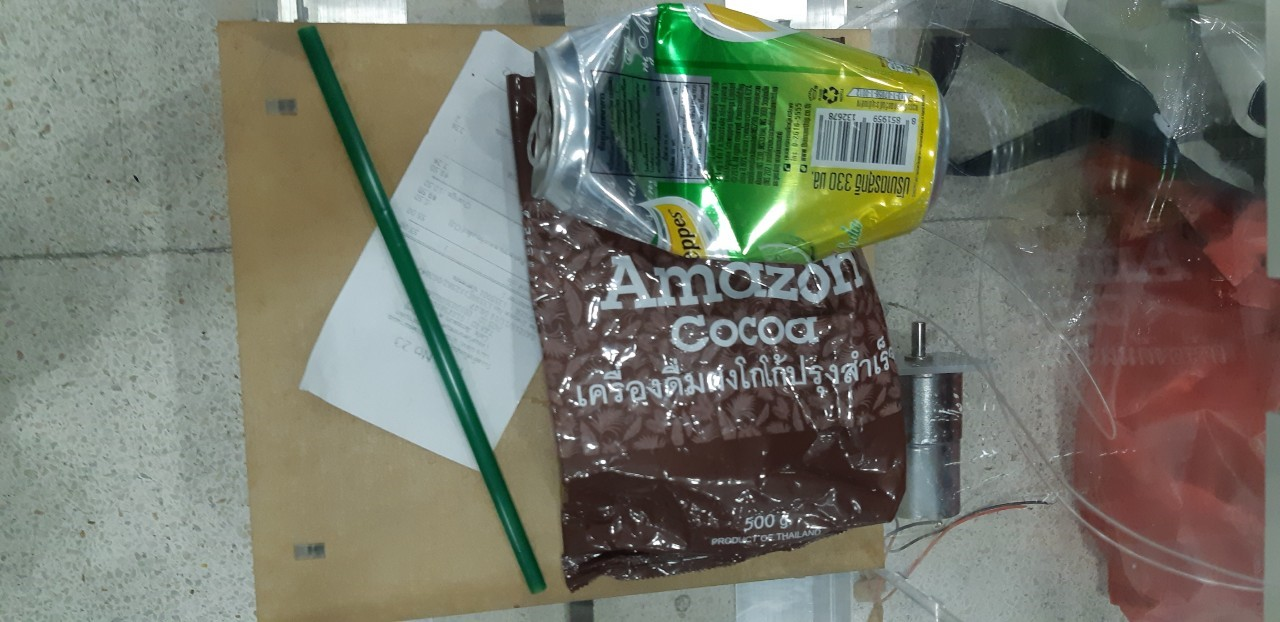AlCan: (535, 5, 948, 265)
Others: (296, 27, 547, 593), (525, 228, 905, 584), (307, 27, 543, 465)
